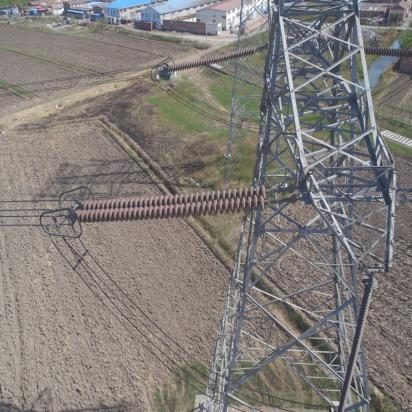insulator: (73, 184, 277, 225), (168, 45, 257, 74), (364, 45, 412, 60)
